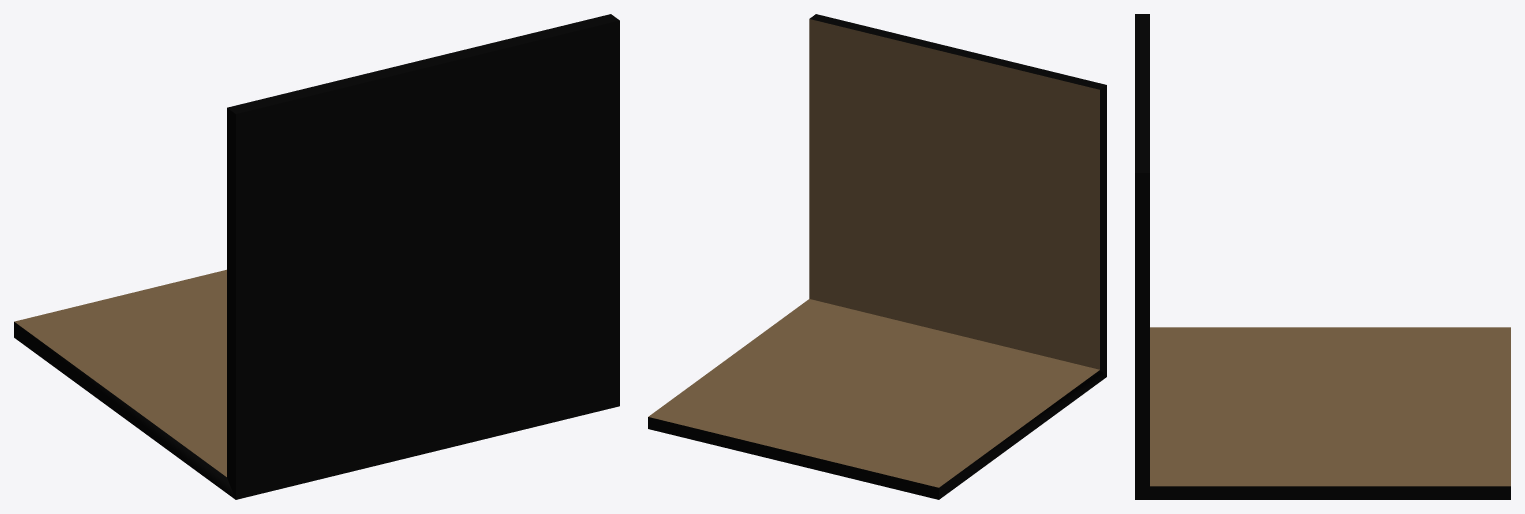
File: M_Corner_Int_5x5_CUTOFF.fbx
3 renders of one model, left to right at view 1: azimuth 30°, elevation 25°; view 2: azimuth 150°, elevation 25°; view 3: azimuth 270°, elevation 25°, orthographic. The views are drawn at different scales.
Visible parts, largest first — view 1: M_Corner_Int_5x5_CUTOFF; view 2: M_Corner_Int_5x5_CUTOFF; view 3: M_Corner_Int_5x5_CUTOFF.
Boxes of the visible parts, x1,y1,x2,y2 form: M_Corner_Int_5x5_CUTOFF: (14, 14, 619, 499); M_Corner_Int_5x5_CUTOFF: (648, 14, 1106, 499); M_Corner_Int_5x5_CUTOFF: (1135, 14, 1510, 499).
Size of the model in its own units: 500 by 480 by 500.
